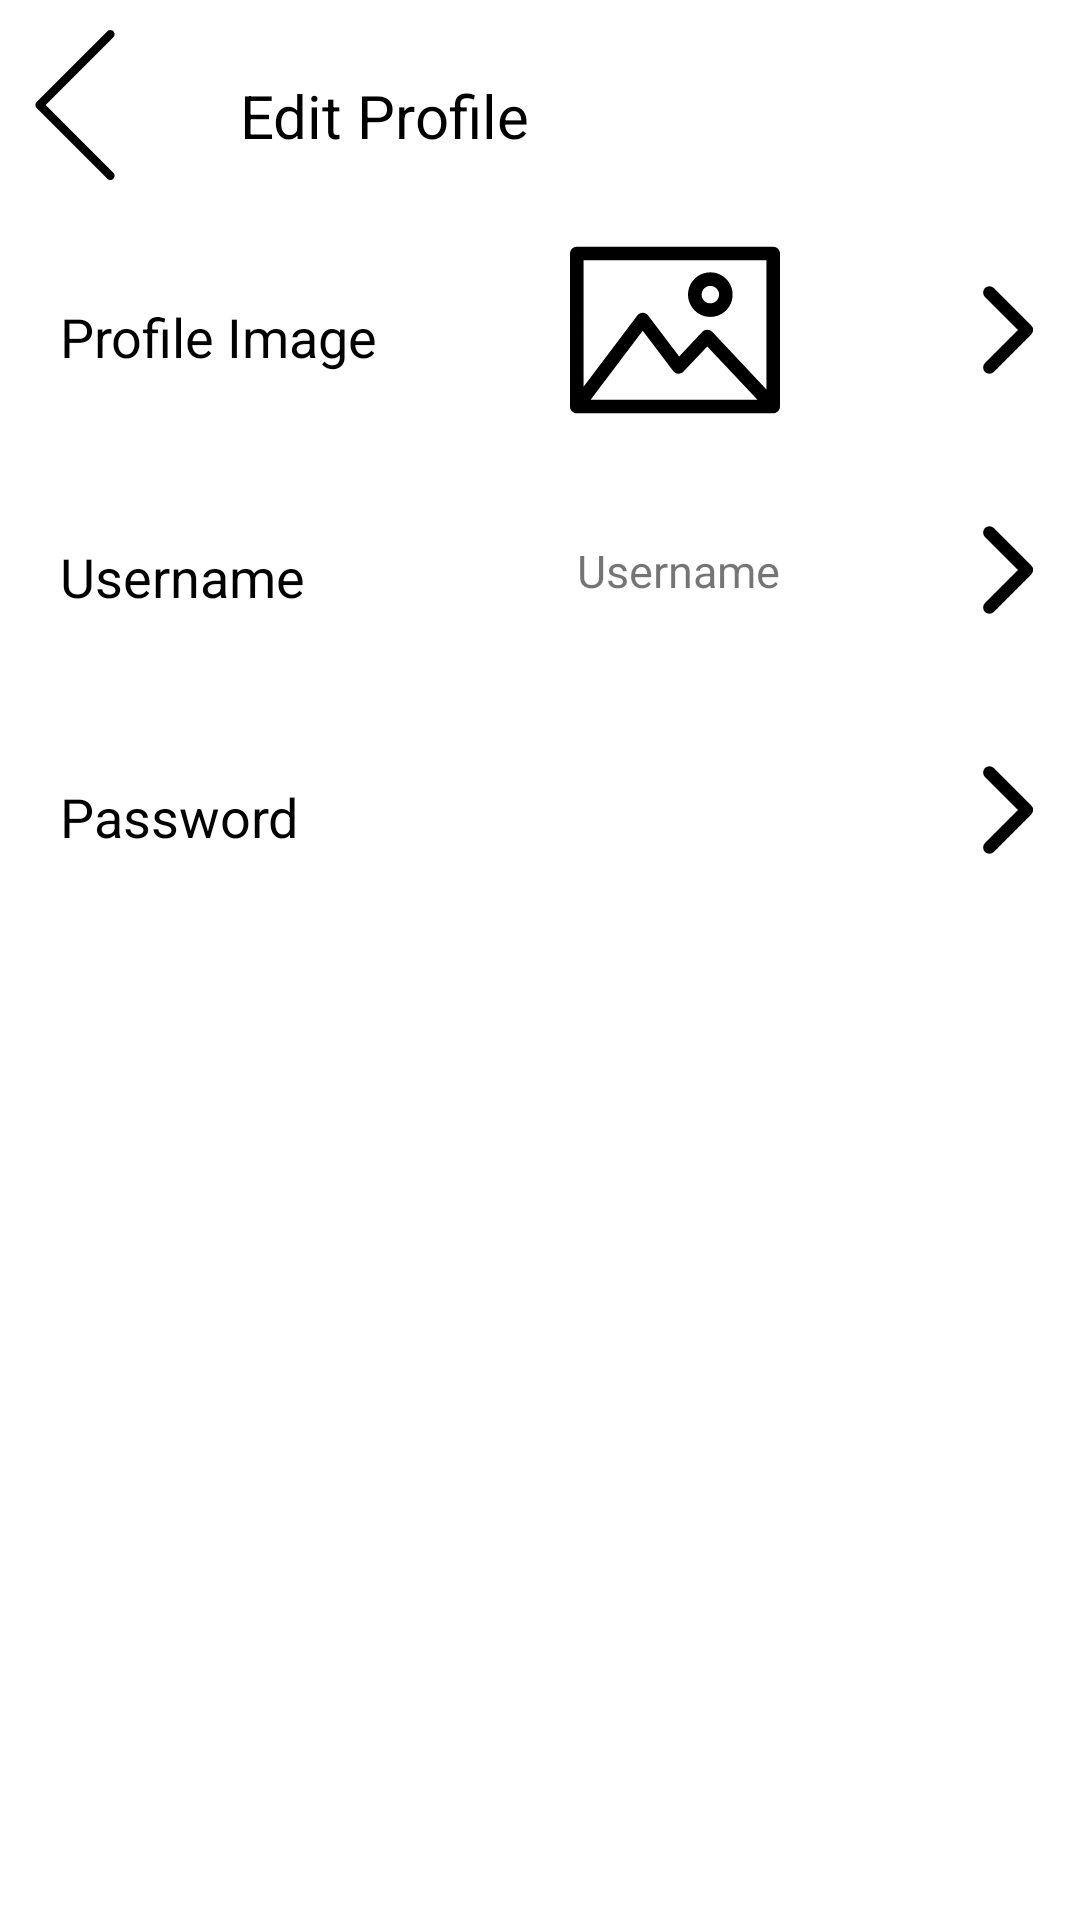

Where icons sit on this 1080w x 1920h app screen, as (x1, y1, x2, y2):
back: (35, 30, 115, 180)
right: (983, 286, 1033, 374), (983, 526, 1033, 614), (983, 766, 1033, 854)
